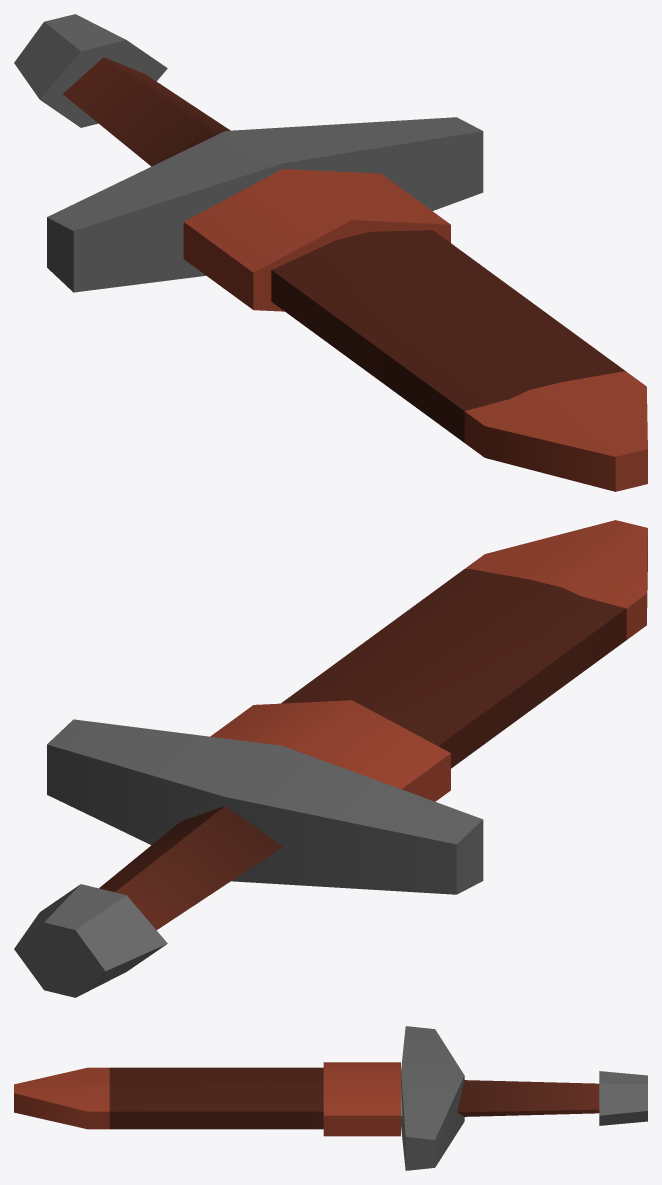
Rendered from DaggerBasic.glb.
3 renders of one model, top to bottom at view 1: azimuth 30°, elevation 25°; view 2: azimuth 150°, elevation 25°; view 3: azimuth 270°, elevation 25°, orthographic. The views are drawn at different scales.
Parts seen in each view (by area): view 1: DaggerScabbard, Dagger; view 2: Dagger, DaggerScabbard; view 3: DaggerScabbard, Dagger.
Part boxes in pixels (x1=…): DaggerScabbard: x1=183, y1=169, x2=647, y2=491; Dagger: x1=14, y1=14, x2=483, y2=292; Dagger: x1=14, y1=719, x2=483, y2=997; DaggerScabbard: x1=210, y1=520, x2=647, y2=801; DaggerScabbard: x1=14, y1=1062, x2=400, y2=1136; Dagger: x1=401, y1=1026, x2=647, y2=1170.
Size of the model in its own units: 0.2237 by 0.0536 by 0.5408.
Materials: 1 (1 with a texture image).
